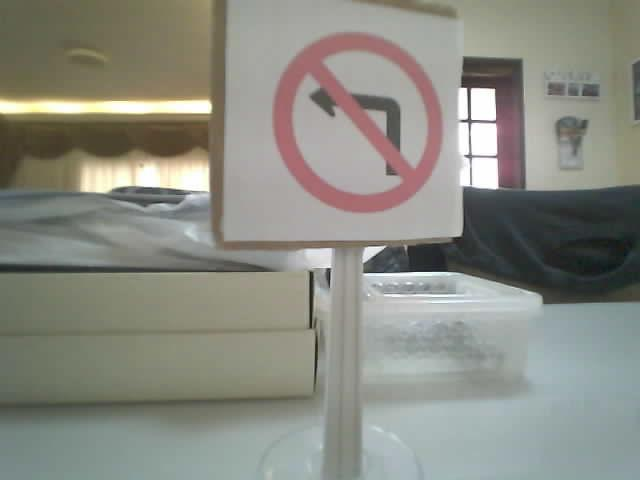R-4a_proibido-esquerda: (272, 31, 441, 212)
